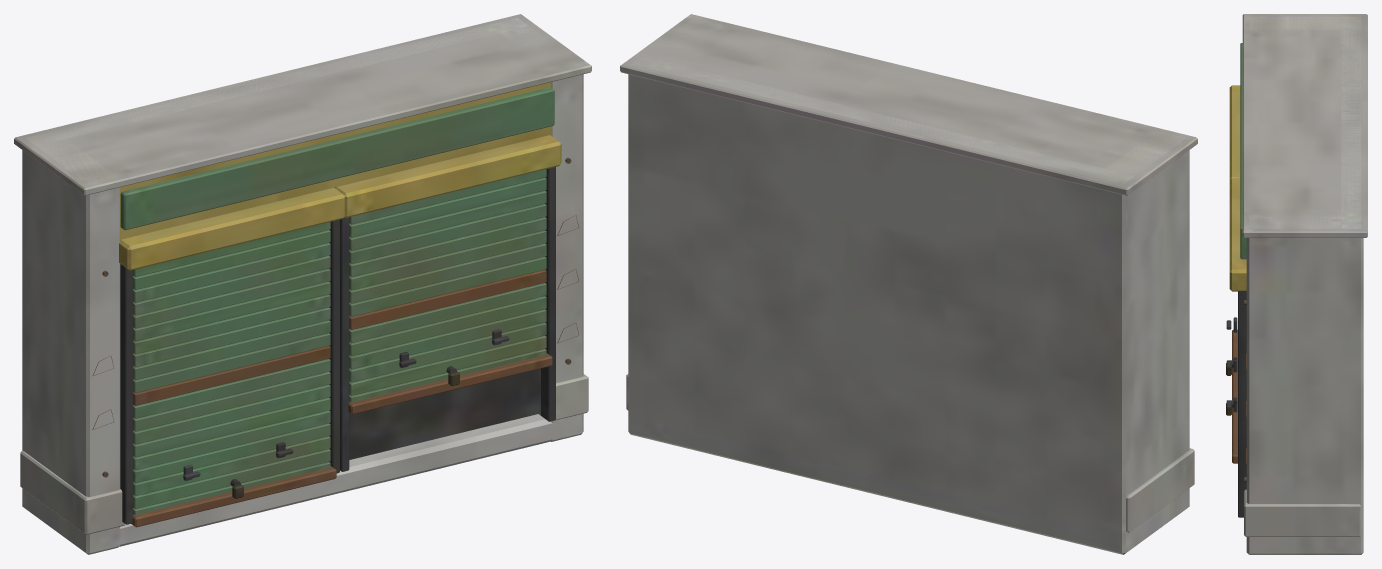
Rendered from R17_shop_front_modules_v3.glb.
3 renders of one model, left to right at view 1: azimuth 30°, elevation 25°; view 2: azimuth 150°, elevation 25°; view 3: azimuth 270°, elevation 25°, orthographic. The views are drawn at different scales.
Visible parts, largest first — view 1: Foundation plinth; view 2: Foundation plinth; view 3: Foundation plinth.
Boxes of the visible parts, x1,y1,x2,y2 form: Foundation plinth: [14, 14, 591, 554]; Foundation plinth: [620, 14, 1197, 554]; Foundation plinth: [1226, 14, 1367, 554].
Size of the model in its own units: 5 by 3.48 by 1.37.
Materials: 10 (10 with a texture image).
